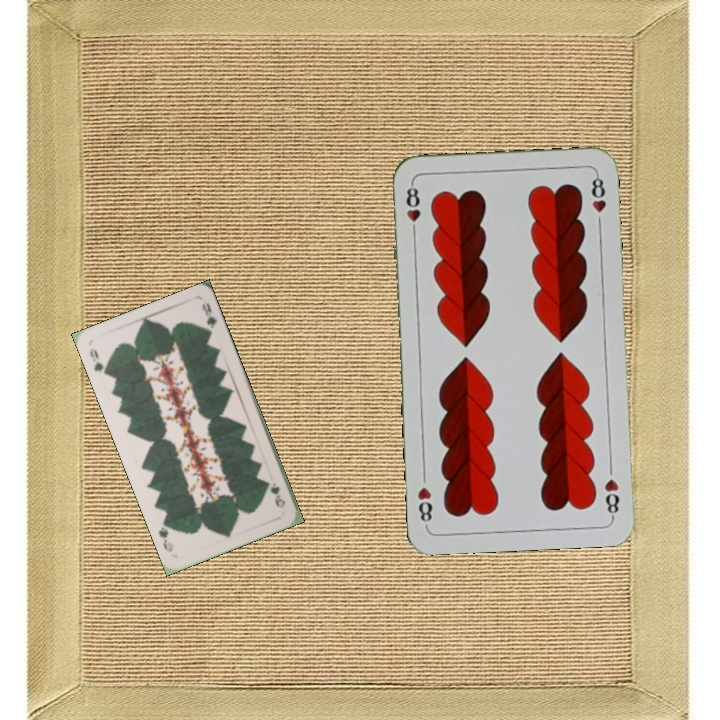G9: (85, 344, 112, 378), (266, 479, 288, 511)
H8: (402, 180, 423, 239), (600, 475, 622, 520)
